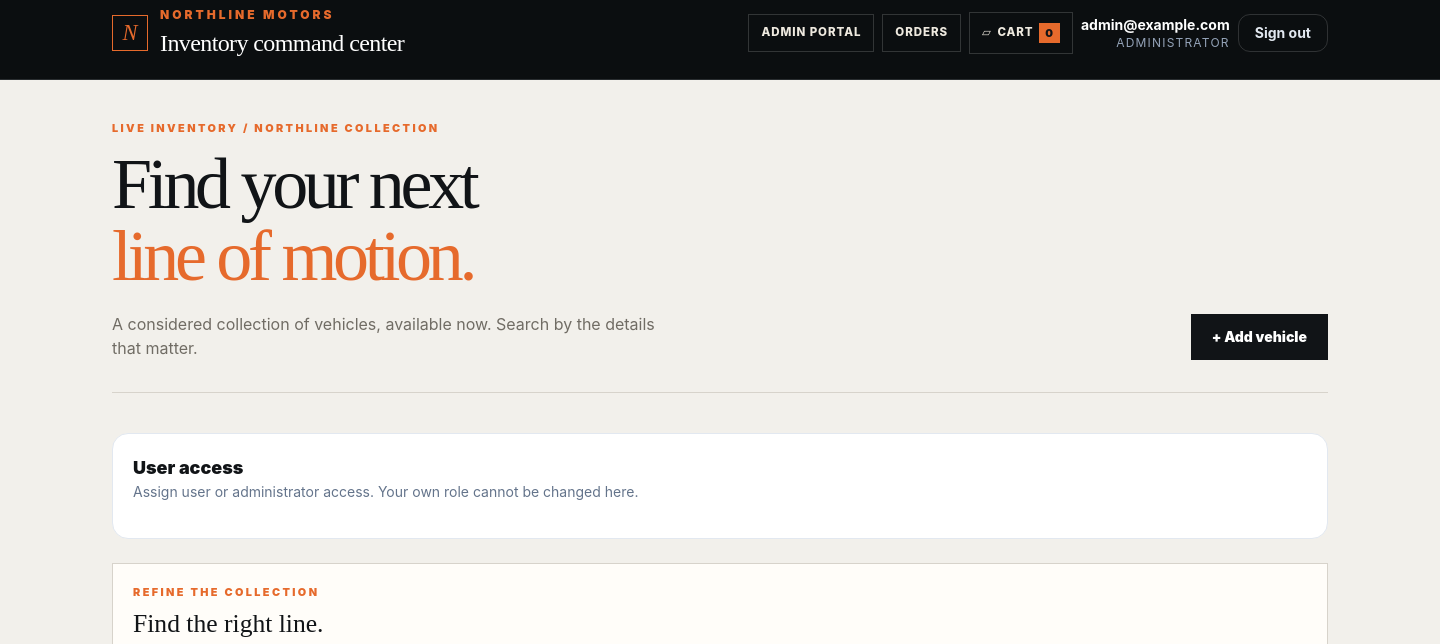
Scenario: App › opens the admin add-vehicle form
Step 1. Click the button "+ Add vehicle" → (1259,337), box [1191,314,1328,360]
(page scrolled)
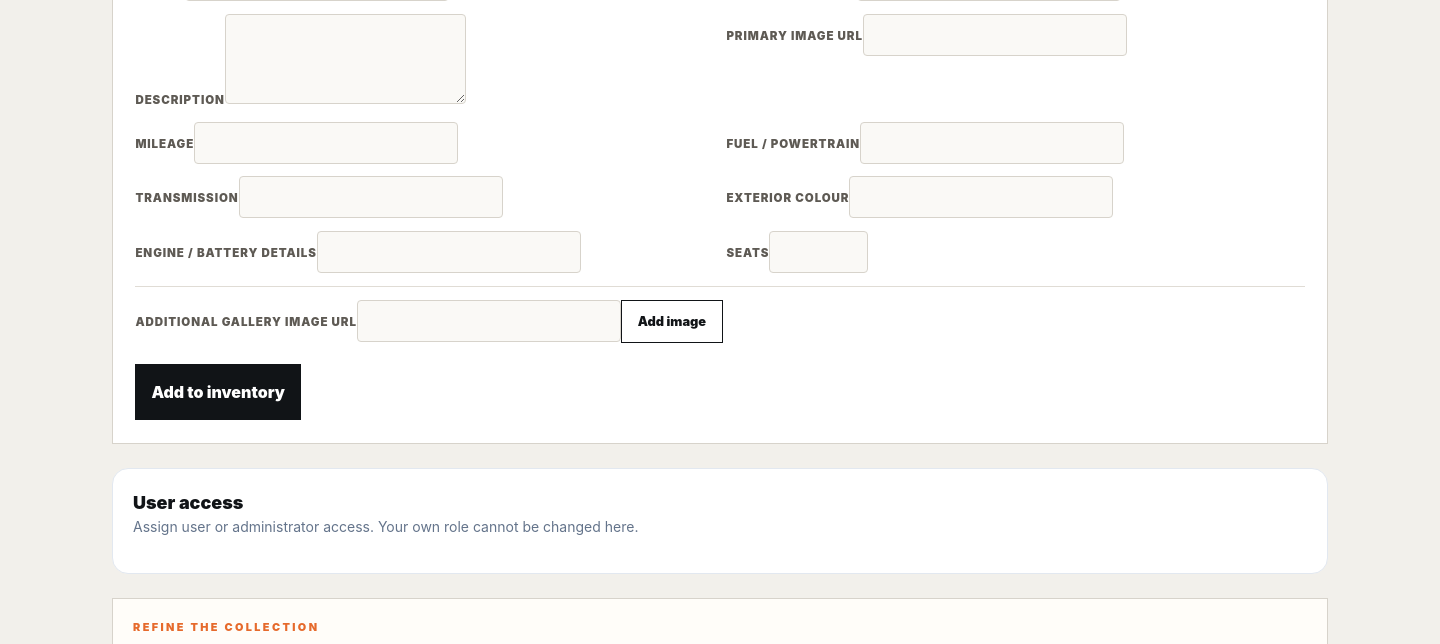
Now the button "Add to inventory" is shown, box [135,364,301,420]
